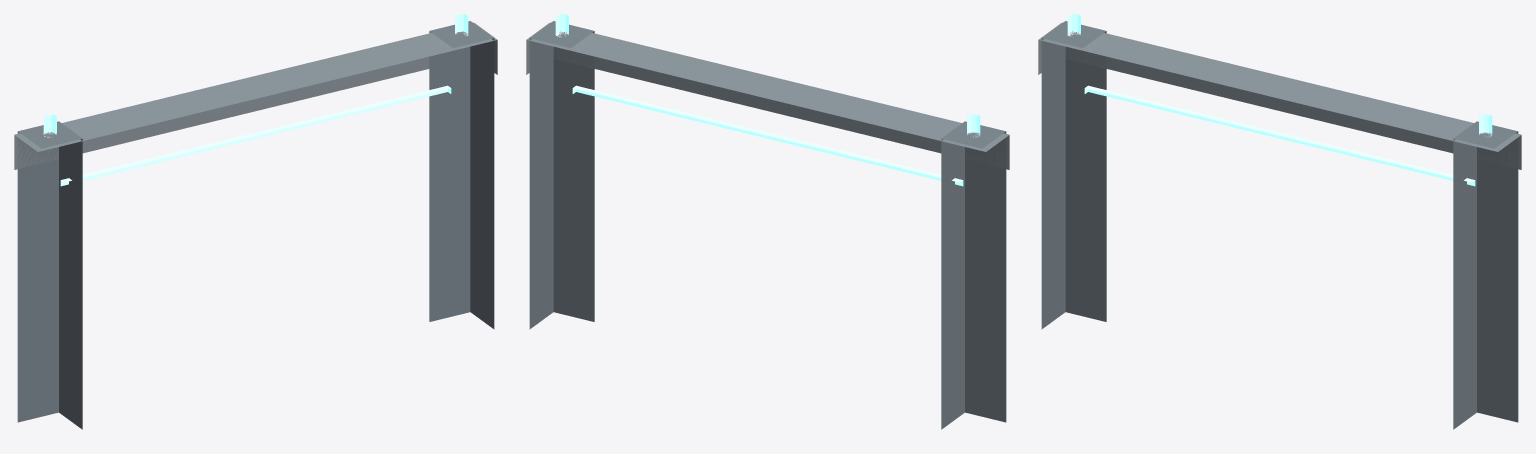
File: fence_gate.glb
The picture shows the model from 3 angles, left to right: view 1: azimuth 30°, elevation 25°; view 2: azimuth 150°, elevation 25°; view 3: azimuth 330°, elevation 25°; orthographic projection.
Parts seen in each view (by area): view 1: VH_FenceGate; view 2: VH_FenceGate; view 3: VH_FenceGate.
Part boxes in pixels (x1,y1,x2,y2): VH_FenceGate: (14, 14, 497, 429); VH_FenceGate: (526, 14, 1009, 429); VH_FenceGate: (1038, 14, 1521, 429).
Bounding box in the file's own units: 3.8 × 2.44 × 0.34.
